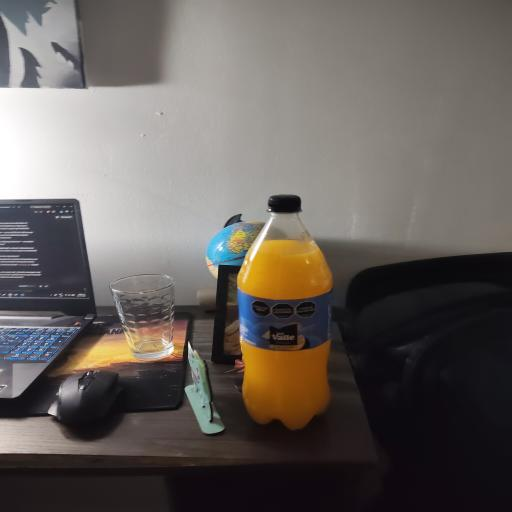Jugo del valle: (238, 195, 331, 429)
